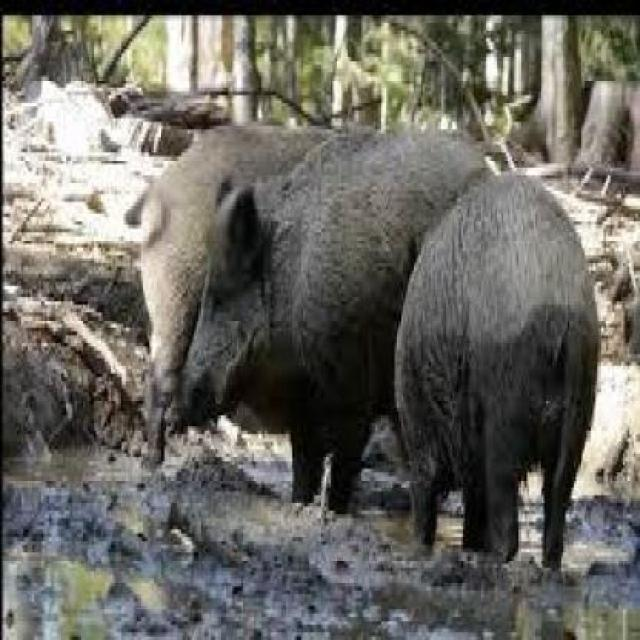wildboar: (174, 112, 506, 536), (123, 112, 379, 496), (388, 159, 604, 581)
